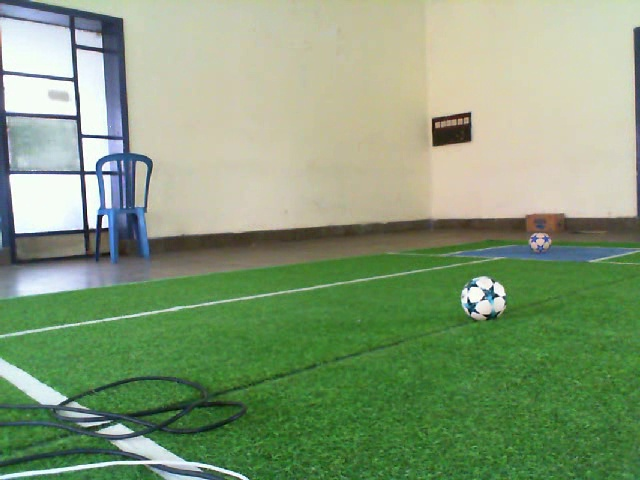ball: (459, 274, 508, 322), (527, 231, 553, 255)
